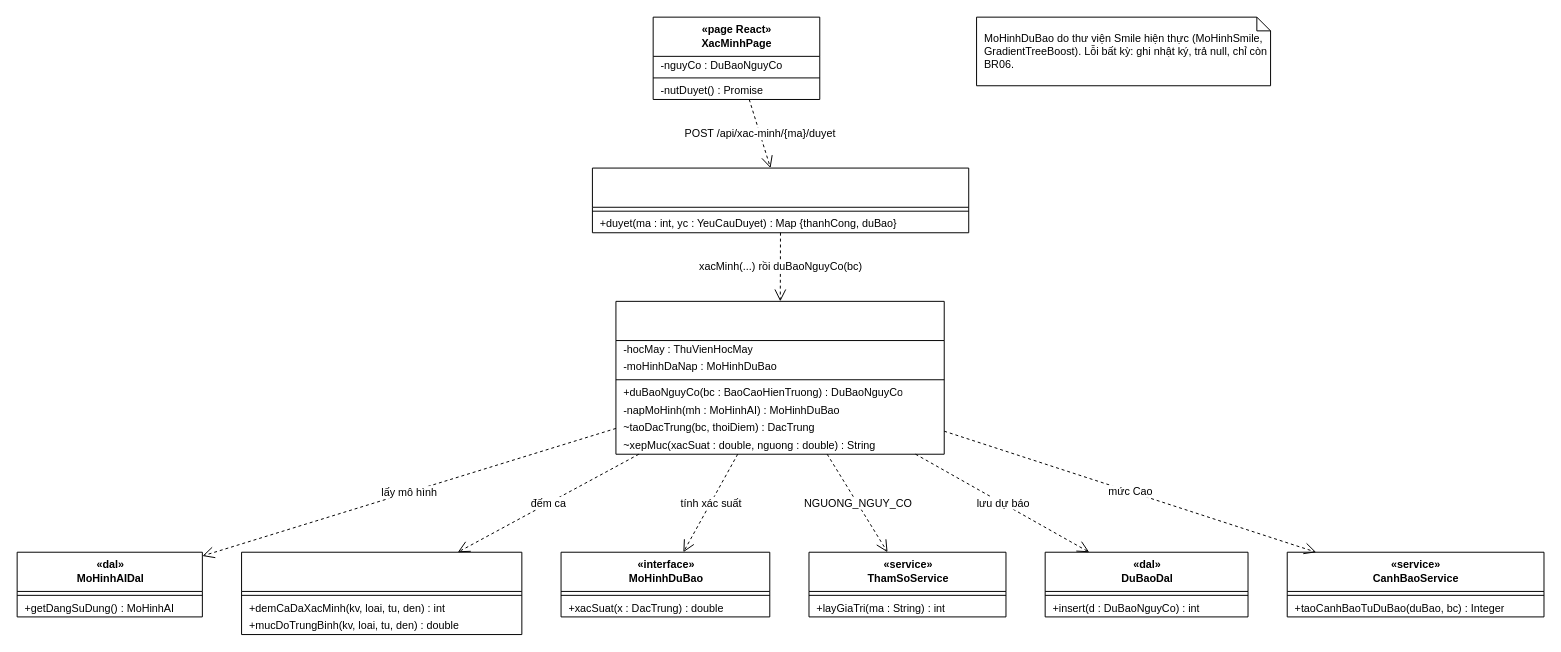
Image size: 1561x652. Some labels were removed from this diagram. The box of each missing label's shape, as (x1, y1, x2, y2) in pixels:
«controller» XacMinhController: (591, 167, 969, 233)
«dal» BaoCaoDal: (241, 551, 522, 635)
«service» AIService: (615, 300, 944, 454)
